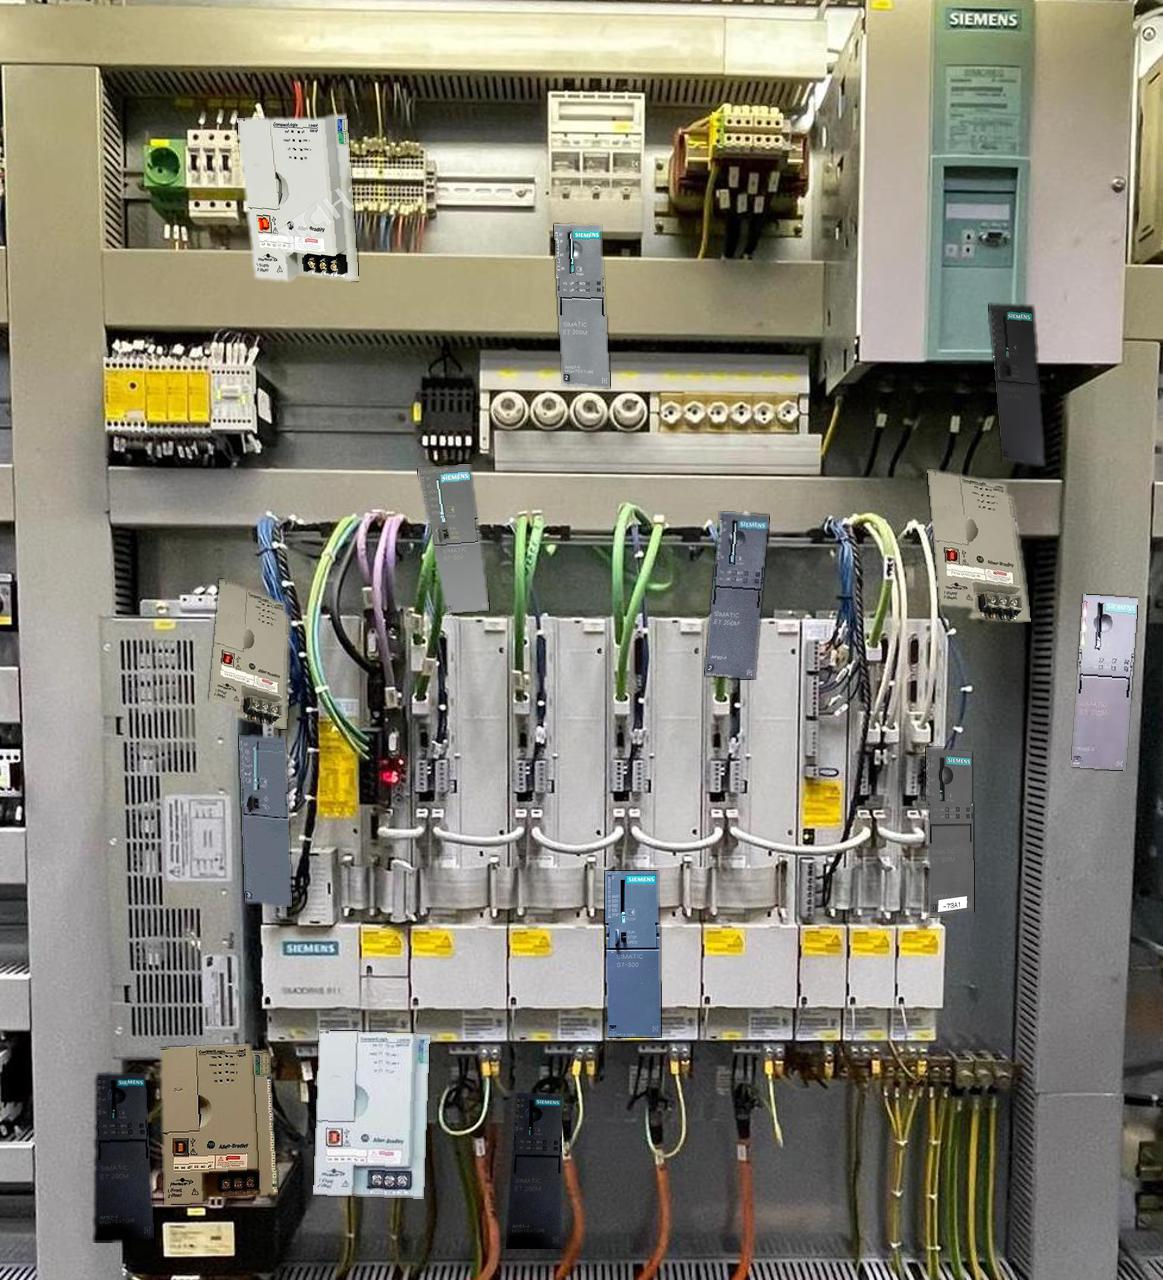AllenBradley: (238, 114, 358, 281), (313, 1030, 429, 1197), (159, 1044, 277, 1204), (927, 469, 1030, 621), (209, 579, 290, 728)
Siemens: (418, 464, 488, 613), (605, 871, 660, 1036), (239, 735, 291, 906), (989, 304, 1044, 466)
